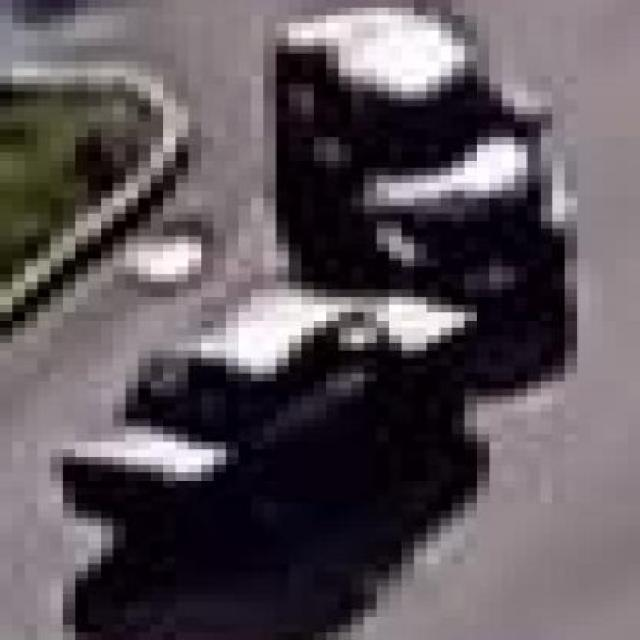accident: (132, 12, 564, 608)
